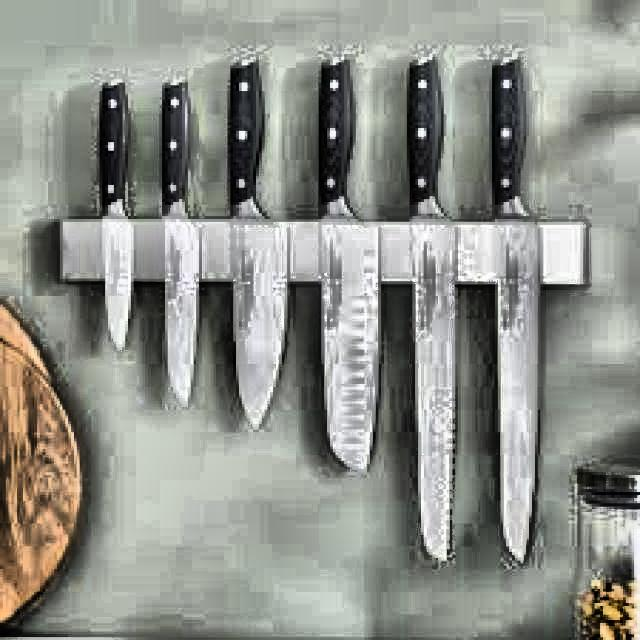knife: (402, 51, 461, 575), (316, 50, 385, 482), (484, 50, 540, 566), (223, 56, 299, 433), (159, 75, 197, 415), (96, 75, 134, 364)
